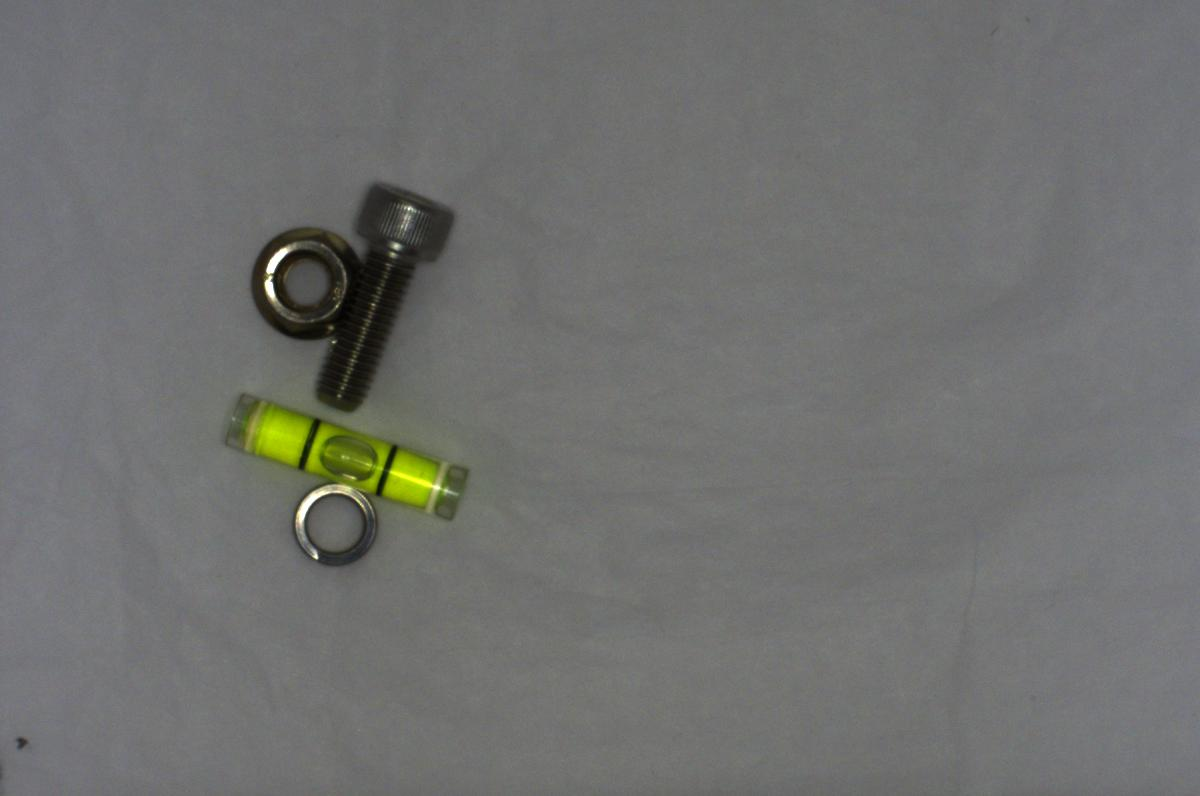Flange nut: (246, 221, 359, 342)
Hexagon screw: (313, 175, 458, 405)
Horizontal bubble: (217, 393, 477, 521)
Spring washer: (280, 481, 388, 568)
